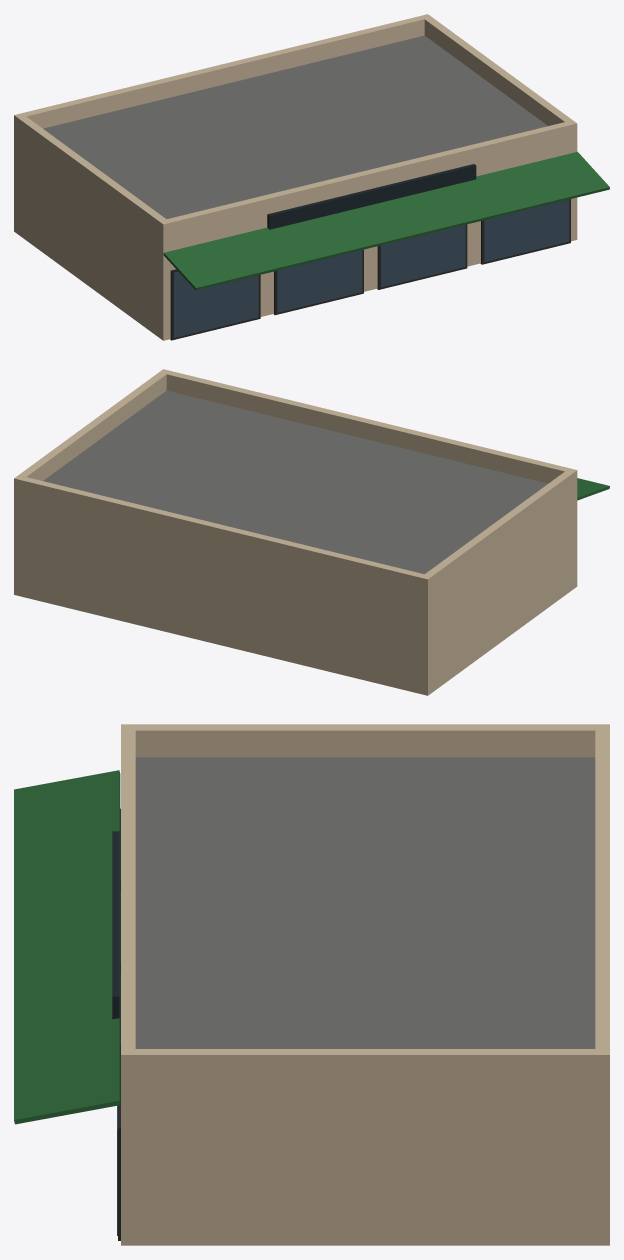
File: pawilon.glb
3 views of the same model, one above another, from view 1: azimuth 30°, elevation 25°; view 2: azimuth 150°, elevation 25°; view 3: azimuth 270°, elevation 25° (orthographic). The views are drawn at different scales.
Visible parts, largest first — view 1: Pawilon usługowy; view 2: Pawilon usługowy; view 3: Pawilon usługowy.
Boxes of the visible parts, x1=… form: Pawilon usługowy: x1=14, y1=14, x2=609, y2=340; Pawilon usługowy: x1=14, y1=369, x2=609, y2=695; Pawilon usługowy: x1=14, y1=724, x2=609, y2=1245.
Size of the model in its own units: 16 by 4.33 by 12.19.
